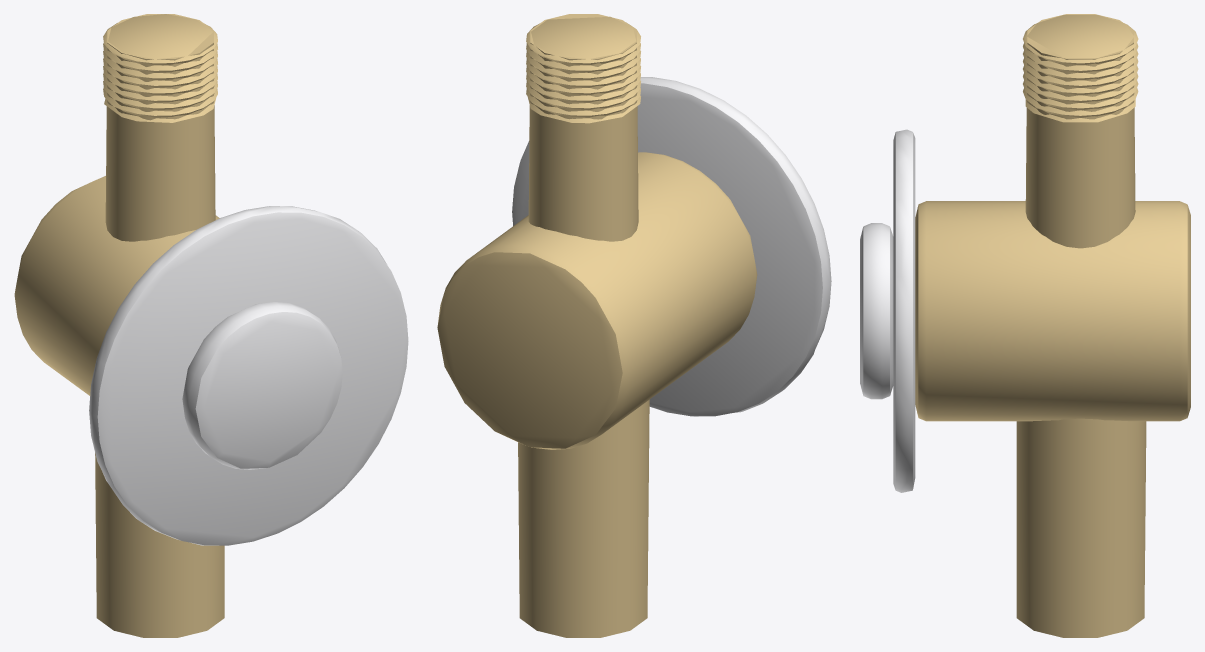
The model's file is HID-MET-004_lod1.glb.
The picture shows the model from 3 angles, left to right: view 1: azimuth 30°, elevation 25°; view 2: azimuth 150°, elevation 25°; view 3: azimuth 270°, elevation 25°; orthographic projection.
Parts seen in each view (by area): view 1: HID-MET-004_espelho, HID-MET-004_botao, HID-MET-004_corpo, HID-MET-004_entrada, HID-MET-004_saida, HID-MET-004_rosca; view 2: HID-MET-004_corpo, HID-MET-004_espelho, HID-MET-004_saida, HID-MET-004_entrada, HID-MET-004_rosca; view 3: HID-MET-004_corpo, HID-MET-004_saida, HID-MET-004_entrada, HID-MET-004_rosca, HID-MET-004_espelho, HID-MET-004_botao.
Boxes of the visible parts, box(x1,y1,x2,y2) form: HID-MET-004_espelho: box(89, 206, 408, 545); HID-MET-004_botao: box(182, 302, 342, 469); HID-MET-004_corpo: box(14, 176, 219, 395); HID-MET-004_entrada: box(105, 14, 215, 241); HID-MET-004_saida: box(95, 453, 224, 637); HID-MET-004_rosca: box(103, 14, 217, 122); HID-MET-004_corpo: box(437, 152, 757, 449); HID-MET-004_espelho: box(512, 77, 831, 416); HID-MET-004_saida: box(518, 399, 649, 637); HID-MET-004_entrada: box(528, 14, 638, 241); HID-MET-004_rosca: box(526, 16, 640, 123); HID-MET-004_corpo: box(915, 201, 1190, 421); HID-MET-004_saida: box(1016, 418, 1146, 637); HID-MET-004_entrada: box(1025, 14, 1135, 248); HID-MET-004_rosca: box(1023, 15, 1138, 122); HID-MET-004_espelho: box(893, 129, 915, 492); HID-MET-004_botao: box(860, 223, 893, 399).
Bounding box in the file's own units: 0.132 × 0.23 × 0.12.
